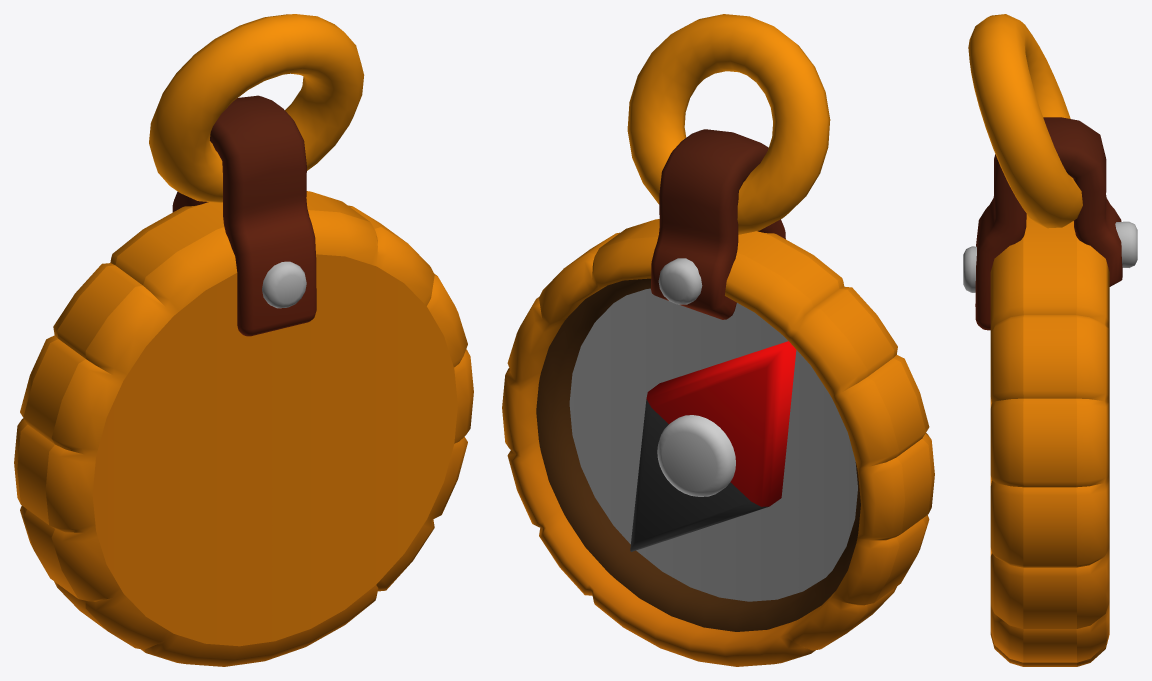
Rendered from Compass_V3_0.fbx.
3 renders of one model, left to right at view 1: azimuth 30°, elevation 25°; view 2: azimuth 150°, elevation 25°; view 3: azimuth 270°, elevation 25°, orthographic. The views are drawn at different scales.
Visible parts, largest first — view 1: Compass_V3_0; view 2: Compass_V3_0; view 3: Compass_V3_0.
Part boxes in pixels (x1=…): Compass_V3_0: x1=14, y1=14, x2=473, y2=666; Compass_V3_0: x1=502, y1=14, x2=934, y2=666; Compass_V3_0: x1=963, y1=14, x2=1137, y2=666.
Size of the model in its own units: 0.3906 by 0.5717 by 0.1457.
